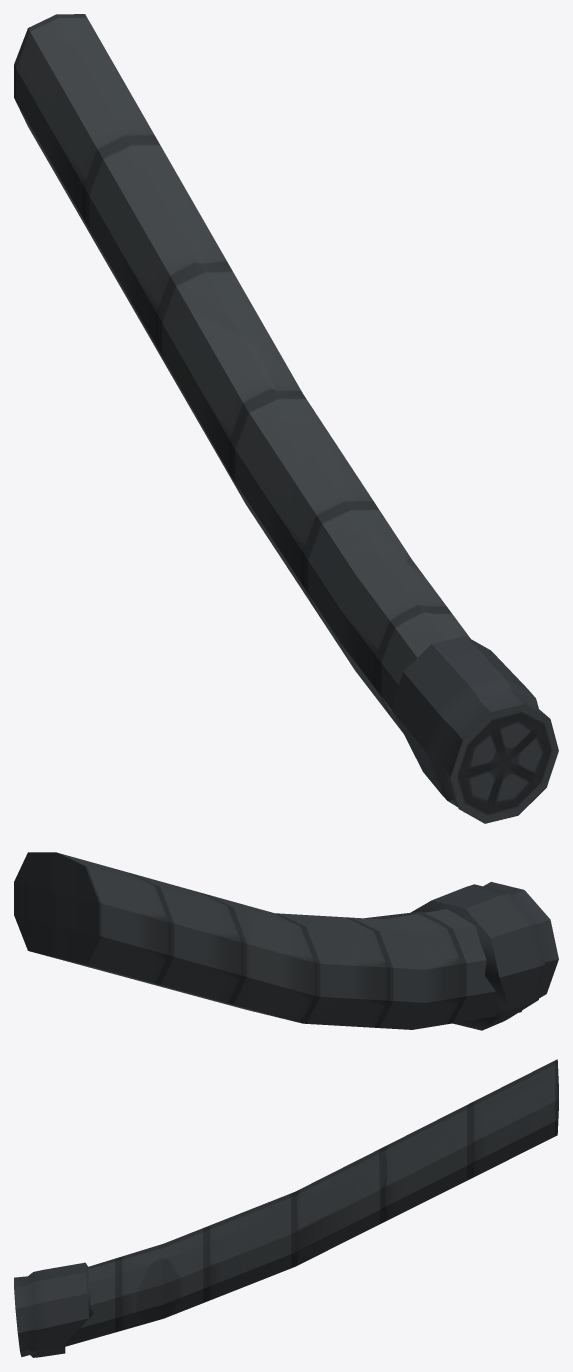
Rendered from SM_Bld_Roof_Edge_Trim_End_01.fbx.
The picture shows the model from 3 angles, top to bottom: view 1: azimuth 30°, elevation 25°; view 2: azimuth 150°, elevation 25°; view 3: azimuth 270°, elevation 25°; orthographic projection. The views are drawn at different scales.
Parts seen in each view (by area): view 1: SM_Bld_Roof_Edge_Trim_End_01; view 2: SM_Bld_Roof_Edge_Trim_End_01; view 3: SM_Bld_Roof_Edge_Trim_End_01.
Part boxes in pixels (x1,y1,x2,y2): SM_Bld_Roof_Edge_Trim_End_01: [14, 14, 558, 823]; SM_Bld_Roof_Edge_Trim_End_01: [14, 852, 558, 1030]; SM_Bld_Roof_Edge_Trim_End_01: [14, 1059, 558, 1357].
Size of the model in its own units: 37.27 by 152 by 259.
